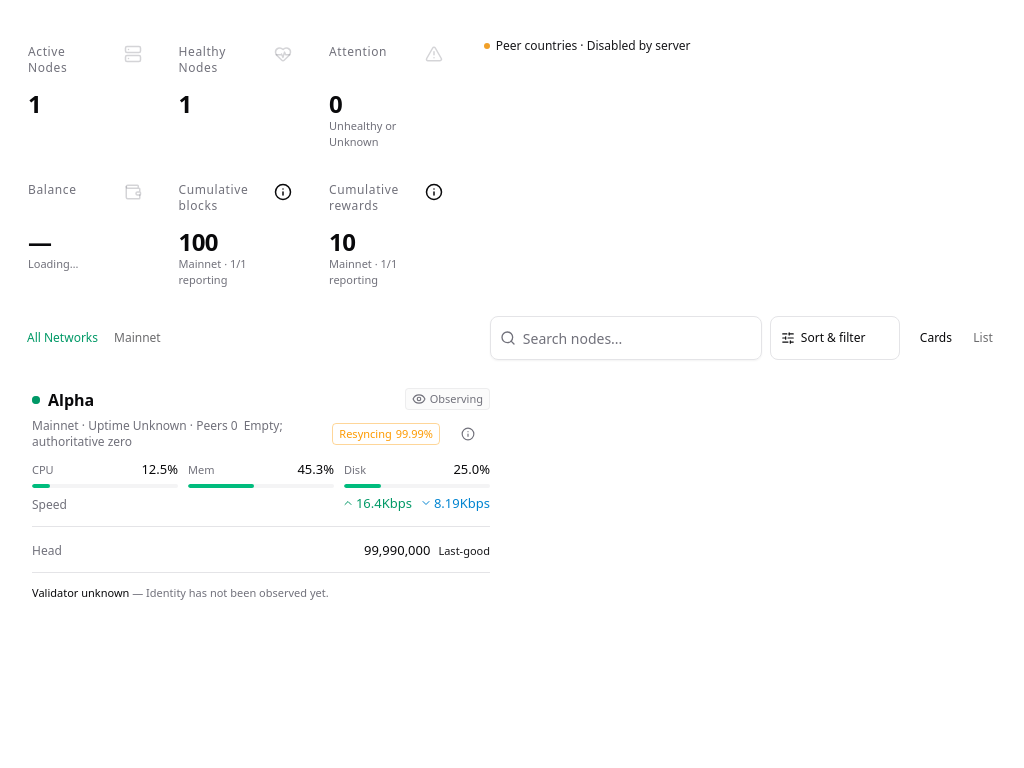
it: Public Home dashboard › renders resync heights safely: 99,990,000 / 100,000,000 (99.99%)
This screenshot has width=1024, height=768.
Click the button "Resyncing 99.99%".
click(386, 434)  # box [332,412,440,456]
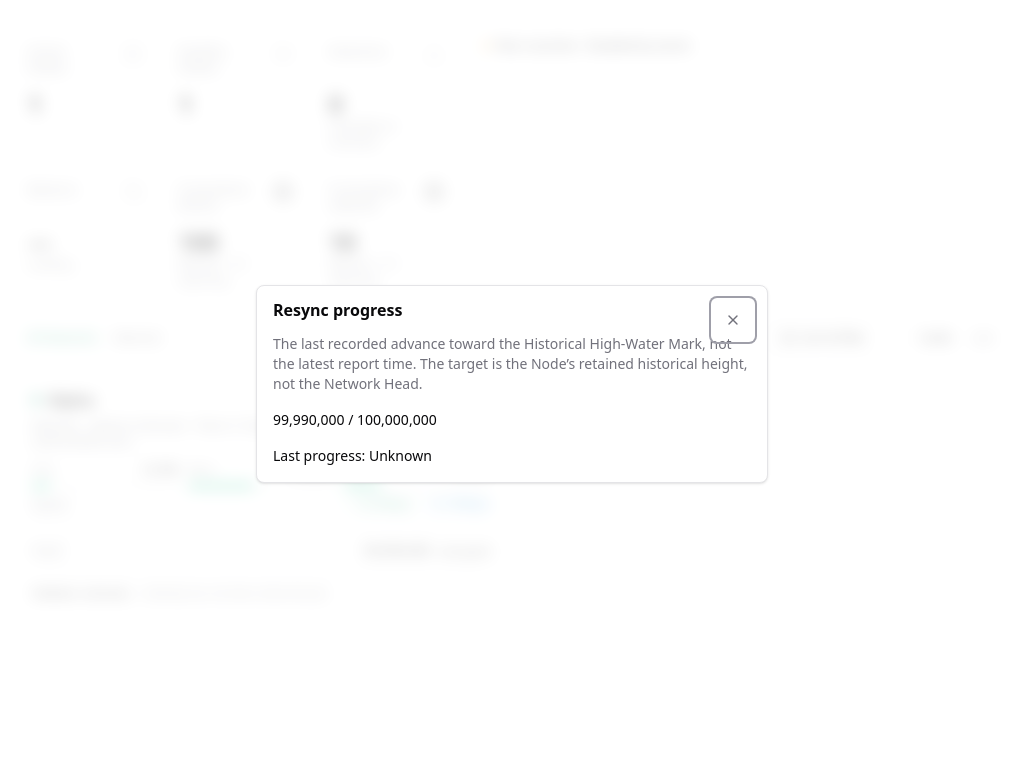
Now the text "99,990,000 / 100,000,000" is shown, box [273,410,437,429]
